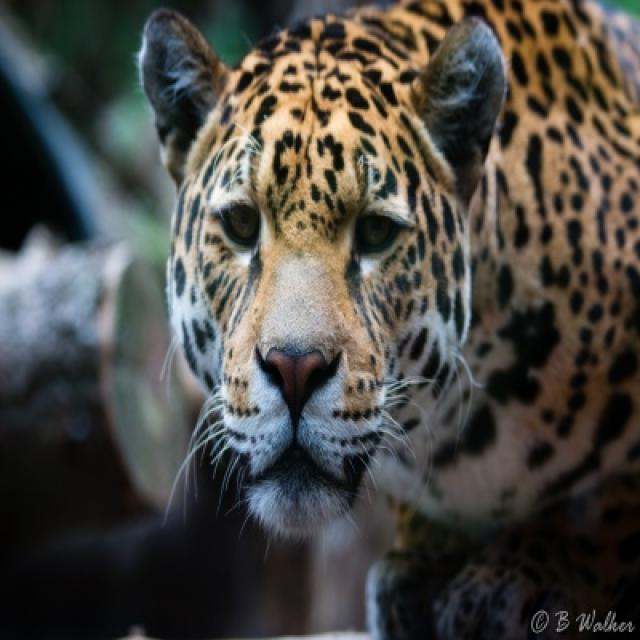Jaguar: (136, 0, 638, 638)
